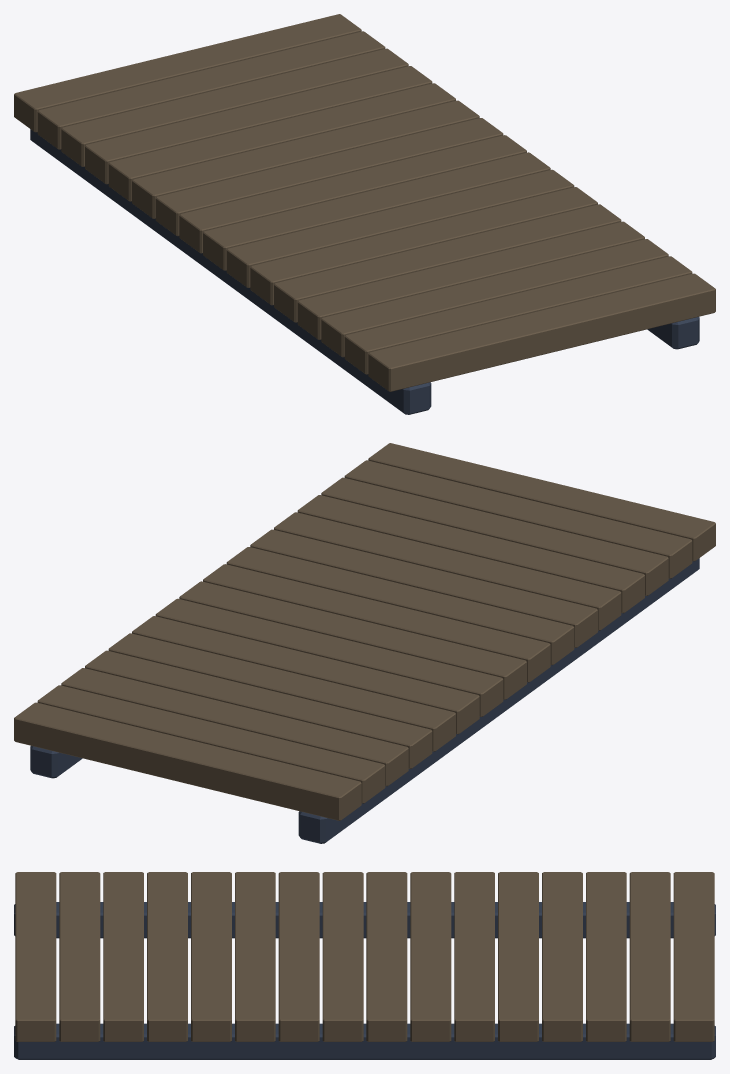
The model's file is bridge.glb.
3 renders of one model, top to bottom at view 1: azimuth 30°, elevation 25°; view 2: azimuth 150°, elevation 25°; view 3: azimuth 270°, elevation 25°, orthographic. The views are drawn at different scales.
Parts seen in each view (by area): view 1: bridge__body; view 2: bridge__body; view 3: bridge__body.
Boxes of the visible parts, x1=… form: bridge__body: x1=14, y1=14, x2=715, y2=414; bridge__body: x1=14, y1=443, x2=715, y2=843; bridge__body: x1=14, y1=872, x2=715, y2=1059.
Size of the model in its own units: 2 by 0.3 by 4.
